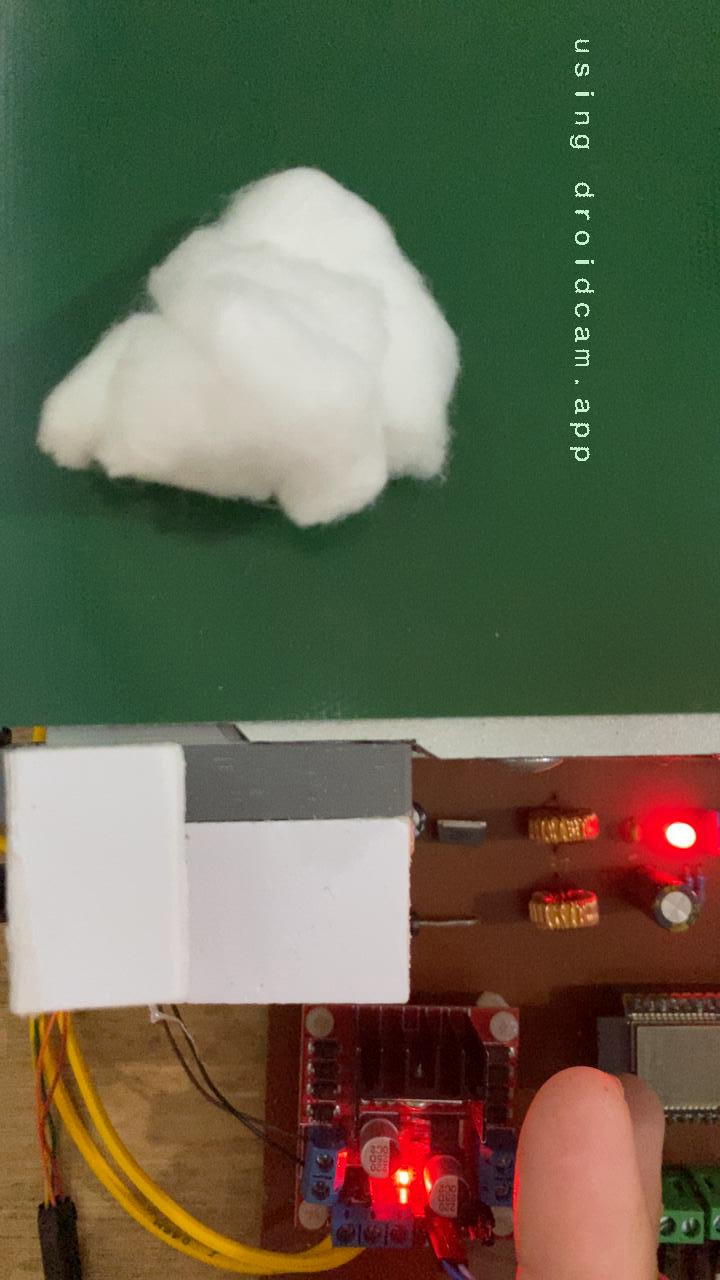cotton: (31, 160, 468, 534)
